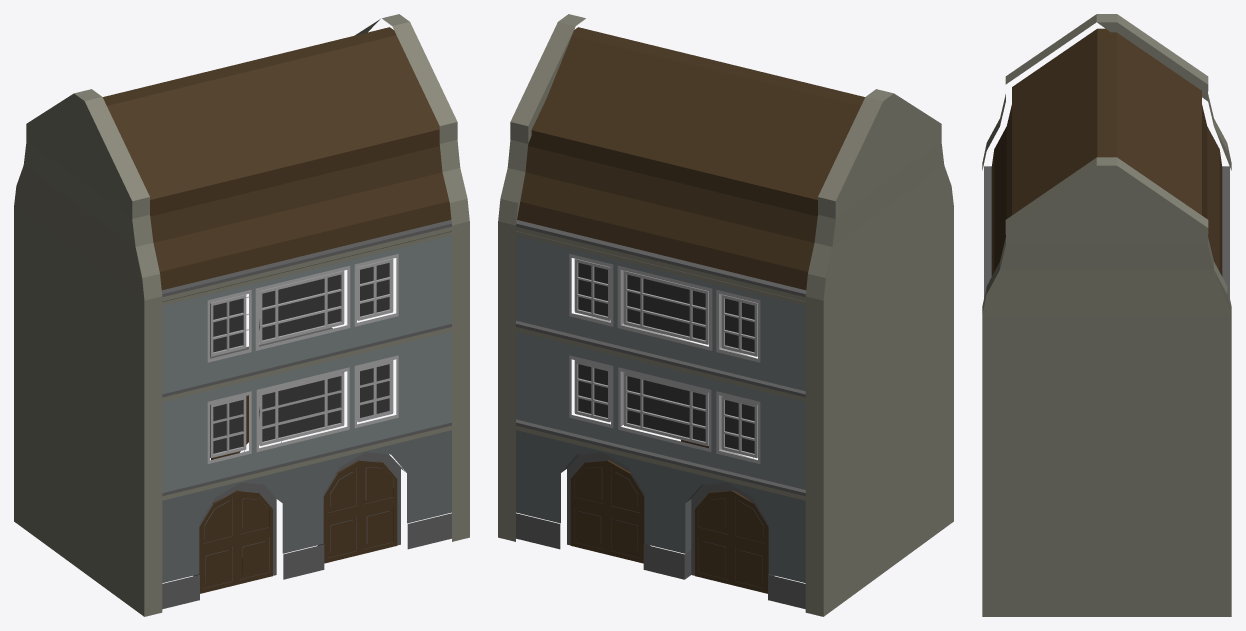
Rendered from city-gable.glb.
The picture shows the model from 3 angles, left to right: view 1: azimuth 30°, elevation 25°; view 2: azimuth 150°, elevation 25°; view 3: azimuth 270°, elevation 25°; orthographic projection. The views are drawn at different scales.
Parts seen in each view (by area): view 1: Building2_Small_Cube.015; view 2: Building2_Small_Cube.015; view 3: Building2_Small_Cube.015.
Boxes of the visible parts, x1,y1,x2,y2 form: Building2_Small_Cube.015: [14, 14, 469, 616]; Building2_Small_Cube.015: [498, 14, 953, 616]; Building2_Small_Cube.015: [982, 14, 1231, 616].
Bounding box in the file's own units: 7.88 × 10.93 × 5.47.
